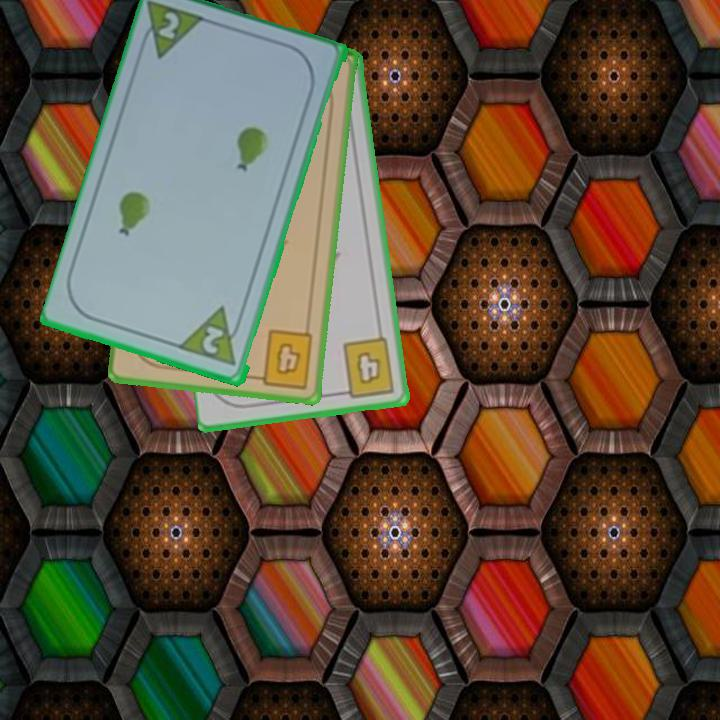2p: (178, 304, 247, 370), (155, 8, 183, 43)
4b: (249, 326, 316, 391), (335, 334, 398, 401)
